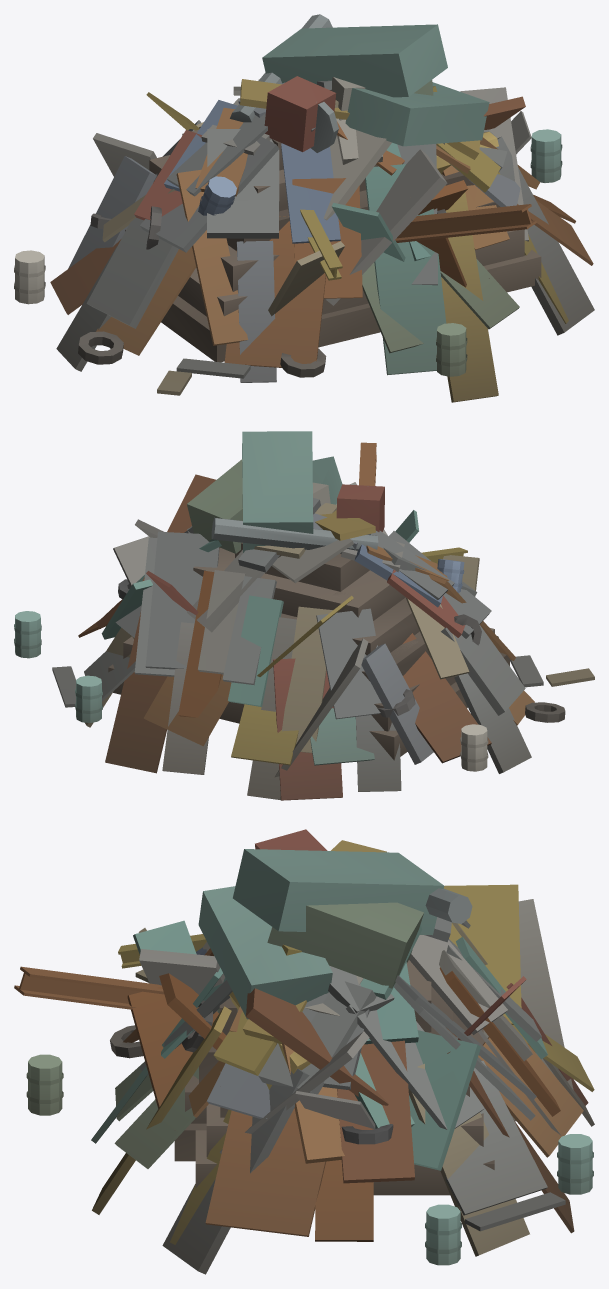
The model's file is heap_a.glb.
3 renders of one model, top to bottom at view 1: azimuth 30°, elevation 25°; view 2: azimuth 150°, elevation 25°; view 3: azimuth 270°, elevation 25°, orthographic. The views are drawn at different scales.
Parts seen in each view (by area): view 1: heap_a; view 2: heap_a; view 3: heap_a.
Part boxes in pixels (left/top/right/bottom): heap_a: left=14, top=14, right=594, bottom=402; heap_a: left=14, top=431, right=594, bottom=800; heap_a: left=14, top=829, right=594, bottom=1274.
Size of the model in its own units: 12.56 by 6.66 by 10.11.
